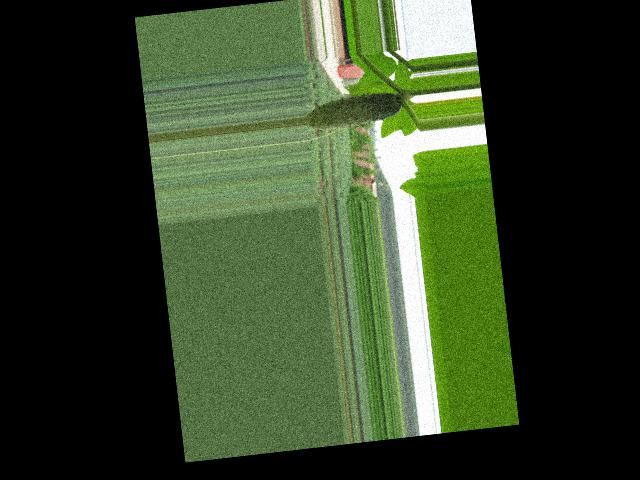cucumber: (304, 90, 402, 132)
